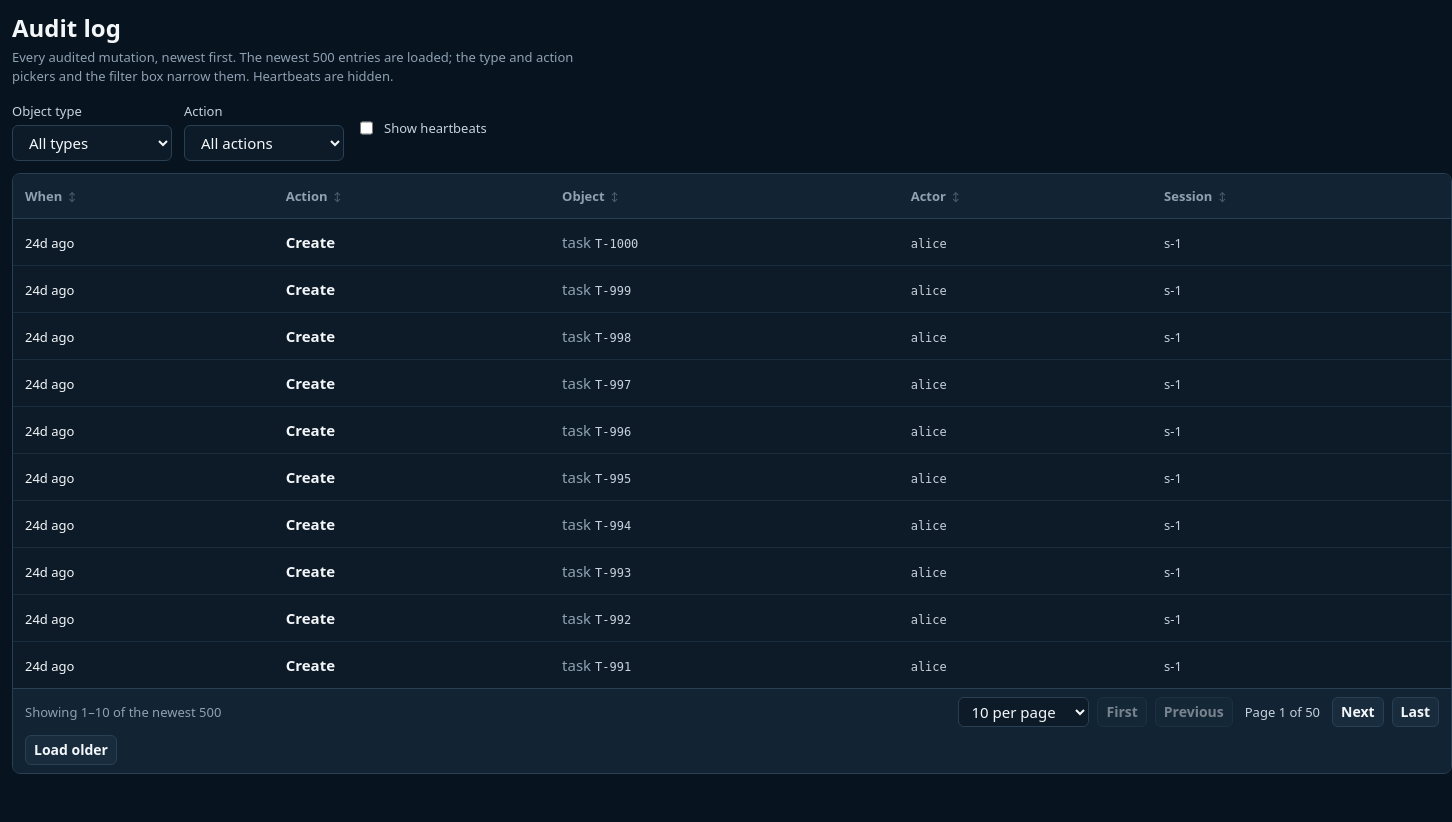
it: AuditView › loads the page before the oldest row and states the beginning of the log
expect the text "T-1000" is shown: met, box x1=595 y1=237 x2=638 y2=251
Click the button "Load older" at [71, 750], box x1=25 y1=735 x2=117 y2=765
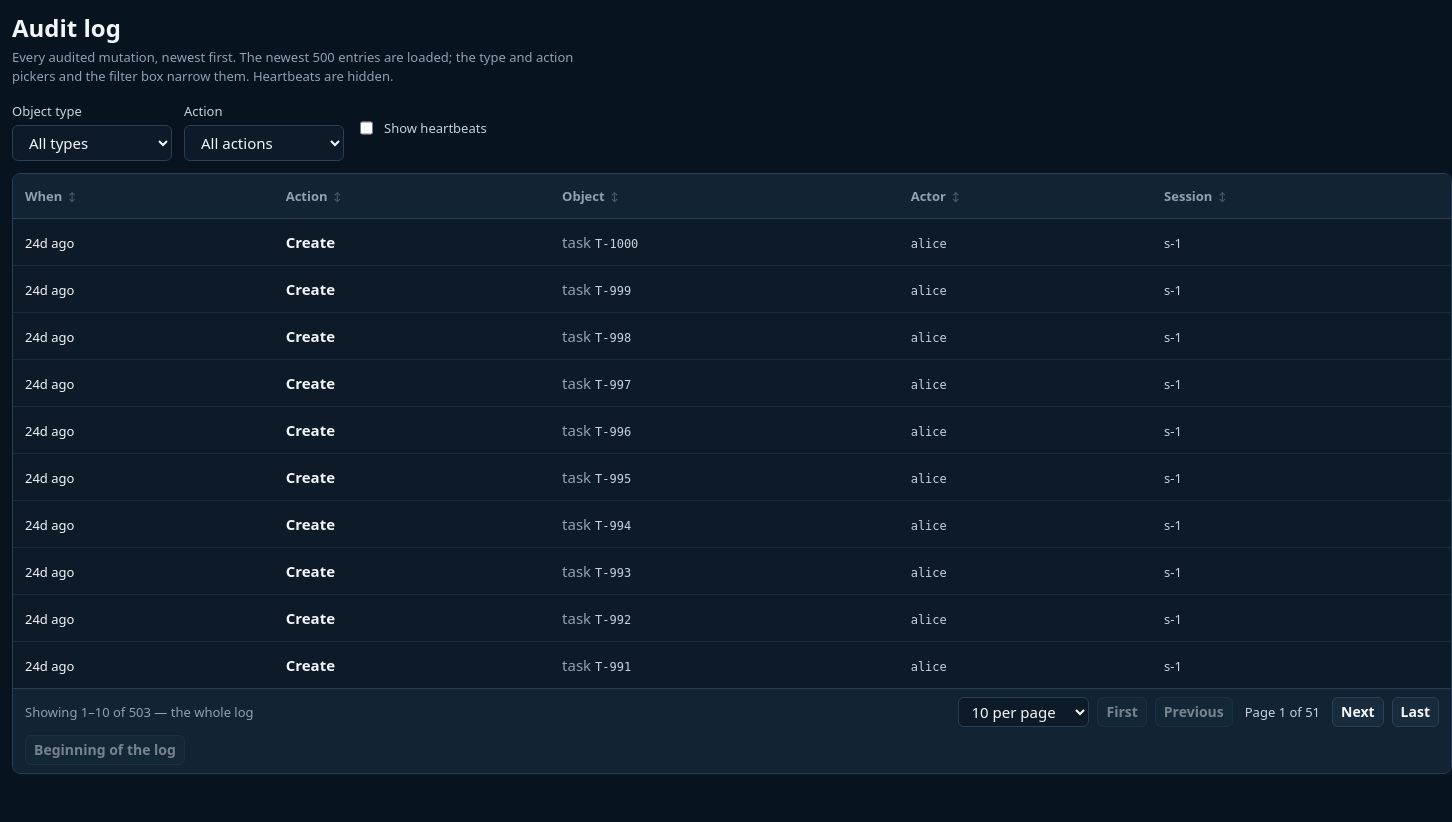
expect the text "T-1000" is shown: met, box x1=595 y1=237 x2=638 y2=251
expect the button "Beginning of the log" is disabled: met, box x1=25 y1=735 x2=185 y2=765
